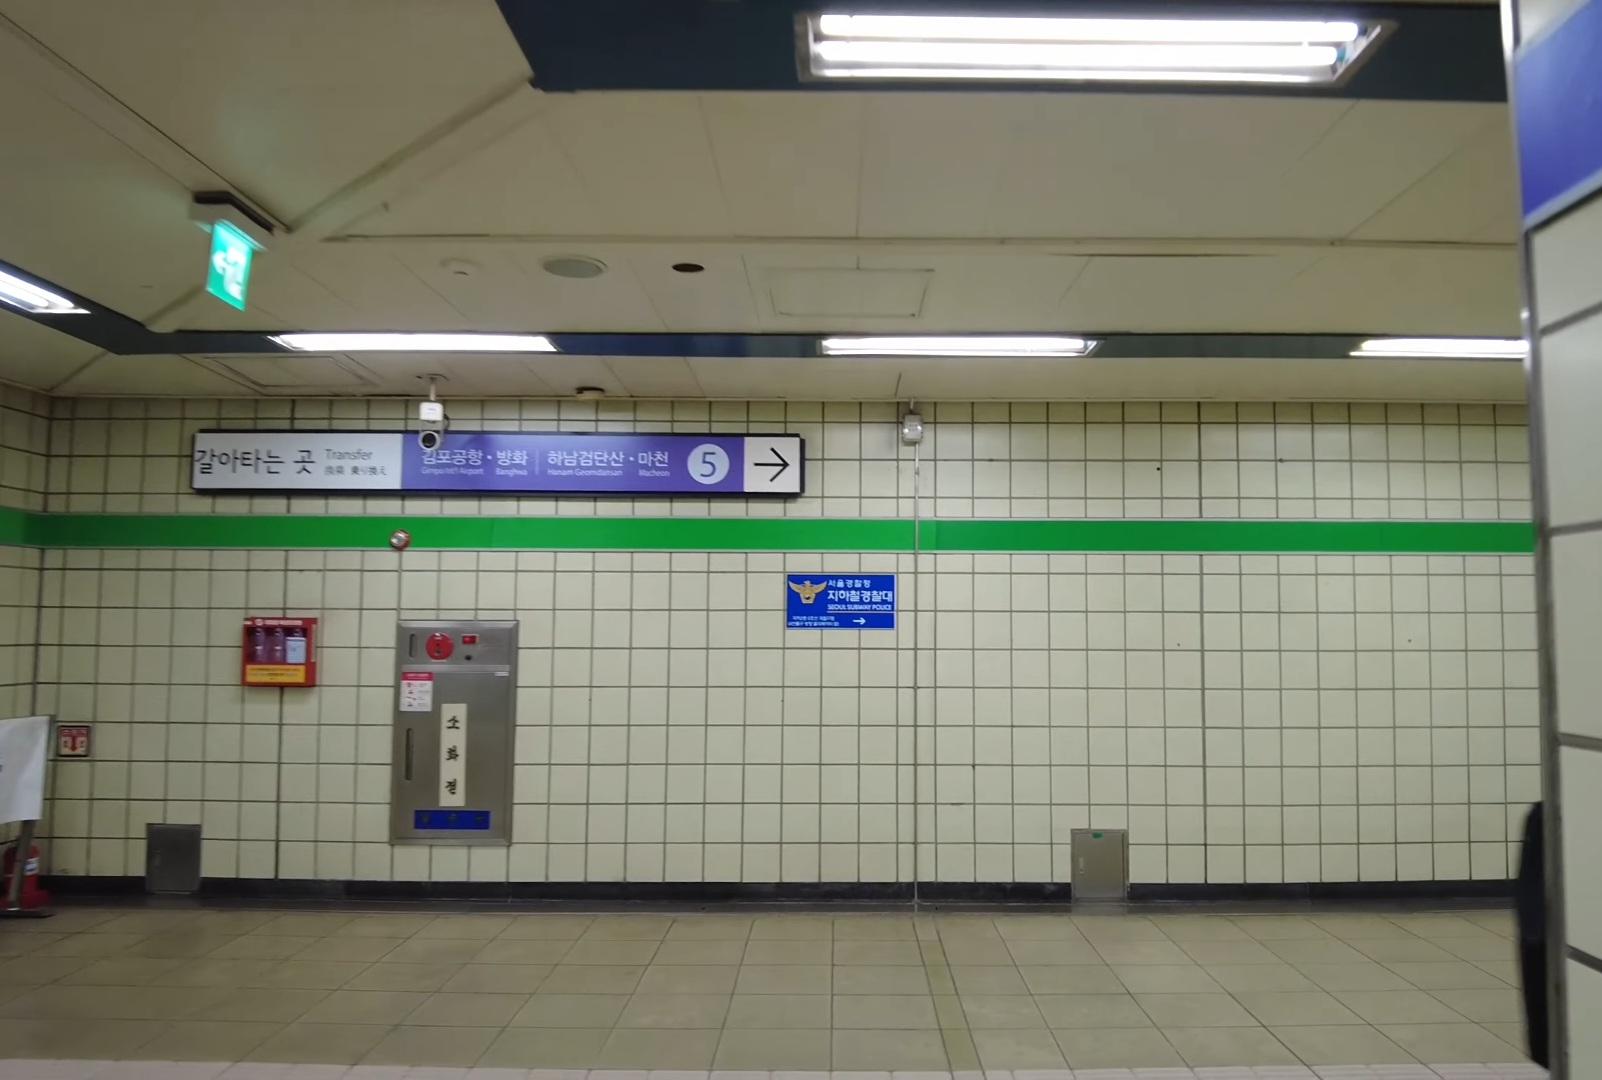signBoard: (187, 427, 803, 498)
